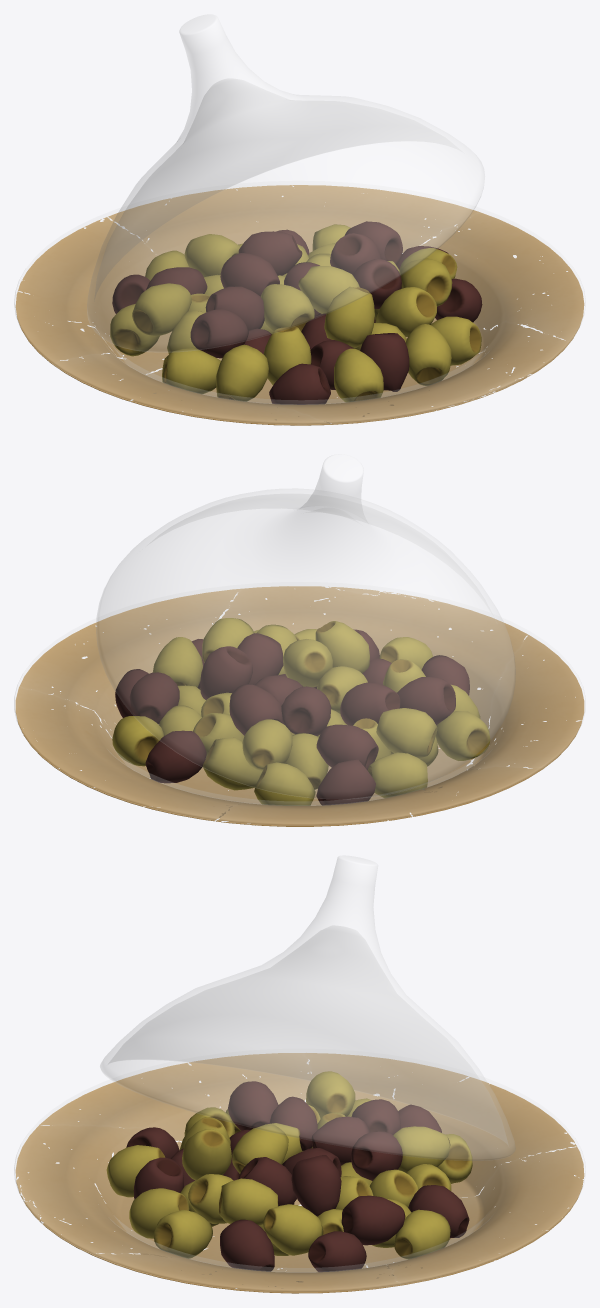
Rendered from PearlGoldOliveCoveredGlassDish.gltf.
3 views of the same model, one above another, from view 1: azimuth 30°, elevation 25°; view 2: azimuth 150°, elevation 25°; view 3: azimuth 270°, elevation 25° (orthographic).
Parts seen in each view (by area): view 1: glassCover, goldLeaf, glassDish, olives; view 2: glassCover, glassDish, goldLeaf, olives; view 3: glassCover, goldLeaf, olives, glassDish.
Part boxes in pixels (x1,y1,x2,y2): glassCover: (87, 14, 484, 352); goldLeaf: (15, 185, 584, 425); glassDish: (14, 181, 585, 424); olives: (110, 221, 482, 404); glassCover: (96, 454, 515, 798); glassDish: (14, 582, 585, 825); goldLeaf: (15, 586, 584, 826); olives: (112, 618, 490, 805); glassCover: (100, 855, 515, 1160); goldLeaf: (15, 1053, 584, 1293); olives: (106, 1071, 472, 1272); glassDish: (14, 1061, 585, 1292).
Bounding box in the file's own units: 0.4593 × 0.2892 × 0.4593.
4 materials, 2 textured.
